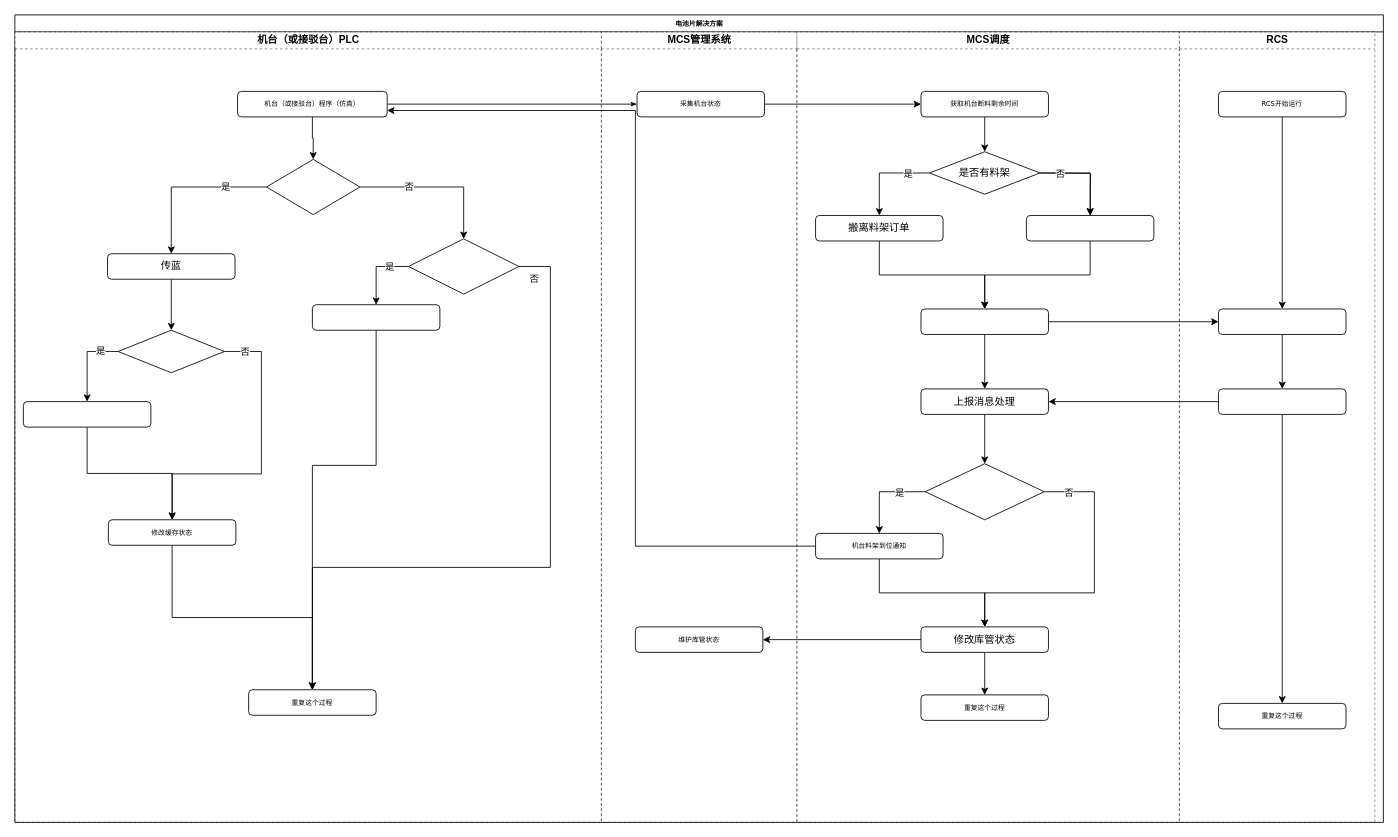
This 1398x837 diagram has some shape labels left out. Here are the shapes that lost their labels. From the top down, the centre of each, then its label:
At (313,187): "是否可以传蓝".
At (1090,228): "补充料架订单".
At (463,266): "缓存是否低于阈值".
At (376,317): "断料告警".
At (984,321): "订单下发".
At (1282,321): "执行订单".
At (170,351): "是否断料".
At (87,414): "断料告警恢复".
At (1282,401): "执行上报".
At (984,491): "涉及库位是否是机台".
